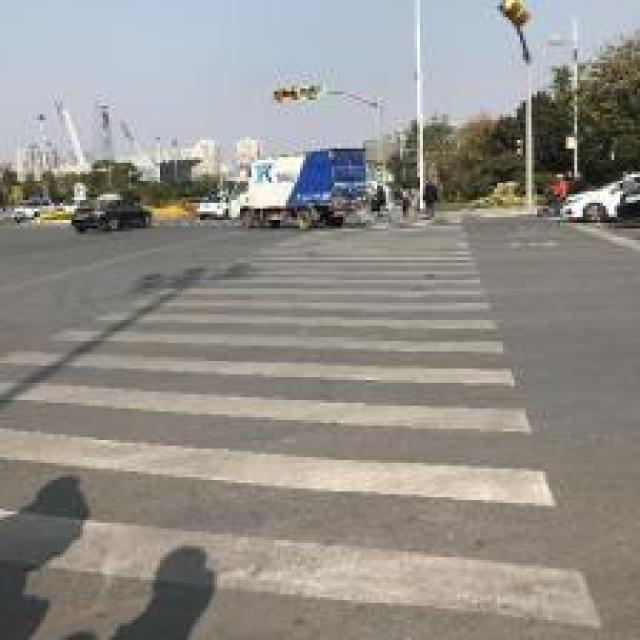crosswalk: (2, 216, 611, 633)
